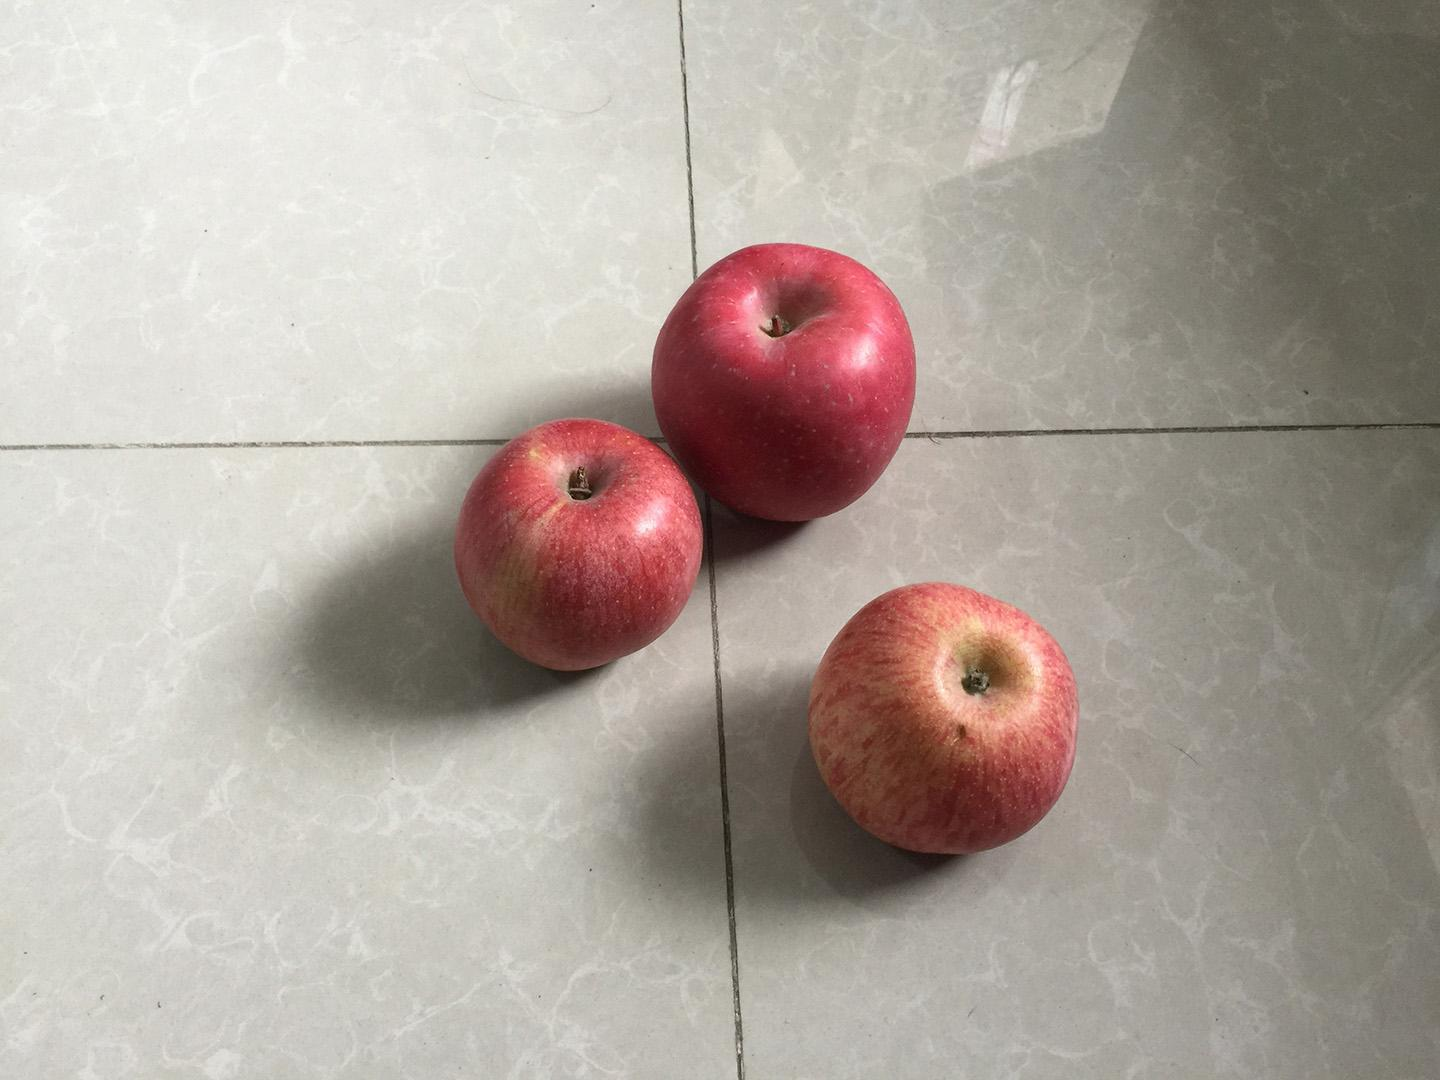apple: (801, 574, 1089, 859), (645, 236, 925, 528), (446, 413, 712, 680)
